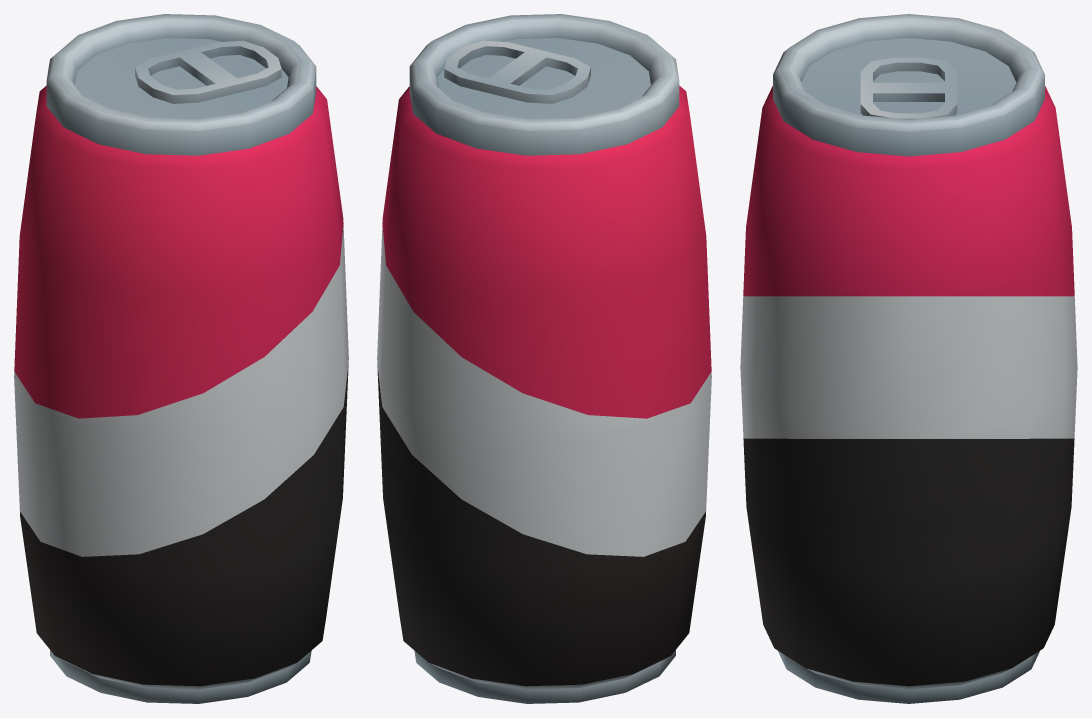
File: can_007.fbx
3 views of the same model, side by side, from view 1: azimuth 30°, elevation 25°; view 2: azimuth 150°, elevation 25°; view 3: azimuth 270°, elevation 25° (orthographic).
Parts seen in each view (by area): view 1: can_007; view 2: can_007; view 3: can_007.
Part boxes in pixels (<box>): can_007: <box>14,14,348,703</box>; can_007: <box>377,14,711,703</box>; can_007: <box>740,14,1077,703</box>.
Bounding box in the file's own units: 7.64 × 7.64 × 14.6.
